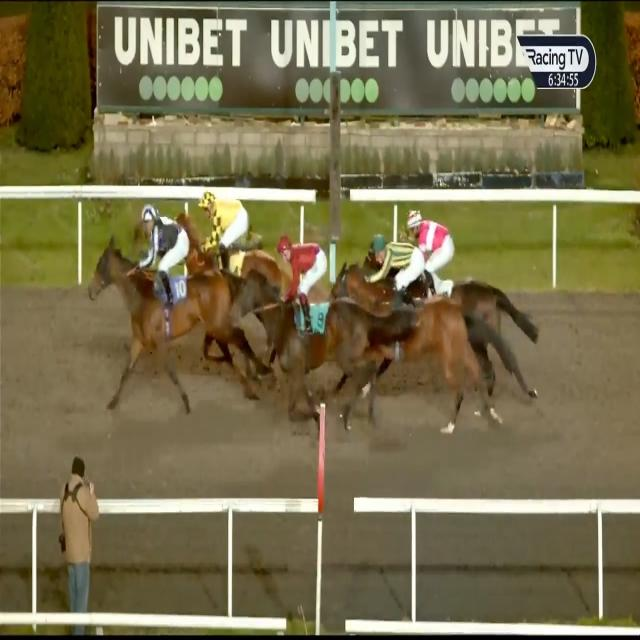horses-racing: (332, 216, 485, 457), (90, 204, 238, 404), (233, 230, 377, 418), (394, 203, 504, 326), (172, 186, 283, 288)
